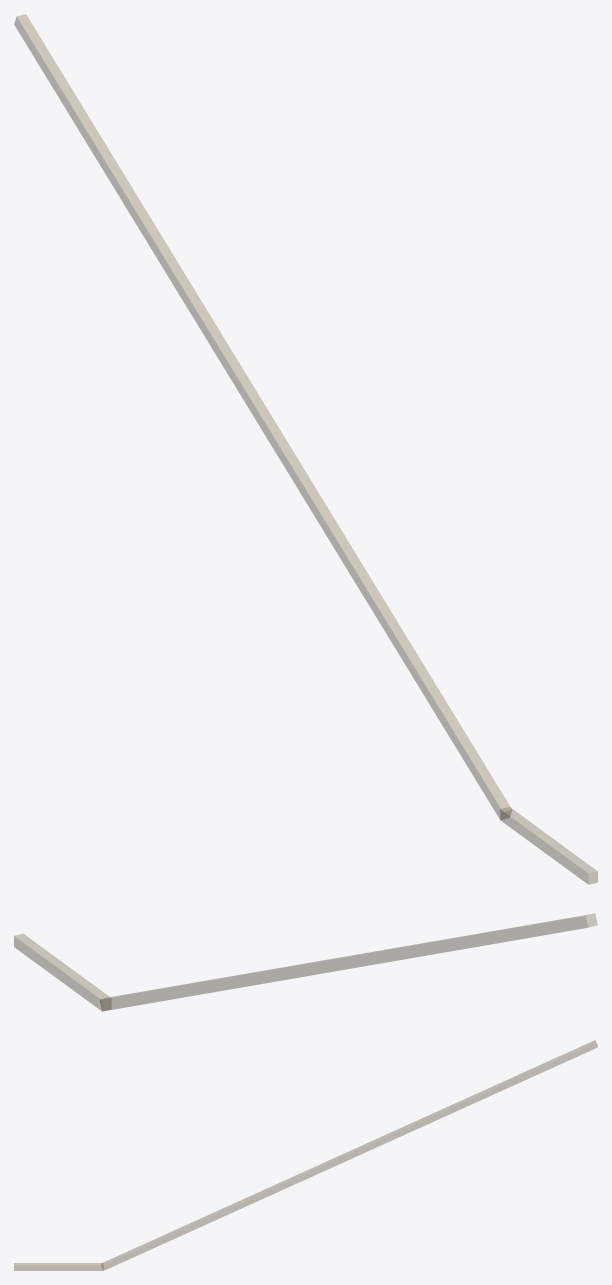
3 views of the same model, one above another, from view 1: azimuth 30°, elevation 25°; view 2: azimuth 210°, elevation 25°; view 3: azimuth 270°, elevation 25° (orthographic). The views are drawn at different scales.
Visible parts, largest first — view 1: Descending Passage (sloped), Descending Passage (horizontal); view 2: Descending Passage (sloped), Descending Passage (horizontal); view 3: Descending Passage (sloped), Descending Passage (horizontal).
Part boxes in pixels (x1=…): Descending Passage (sloped): x1=14, y1=14, x2=511, y2=819; Descending Passage (horizontal): x1=500, y1=807, x2=597, y2=884; Descending Passage (sloped): x1=100, y1=913, x2=597, y2=1011; Descending Passage (horizontal): x1=14, y1=934, x2=111, y2=1011; Descending Passage (sloped): x1=101, y1=1040, x2=597, y2=1270; Descending Passage (horizontal): x1=14, y1=1263, x2=103, y2=1270.
Size of the model in its own units: 1.05 by 48.02 by 111.
